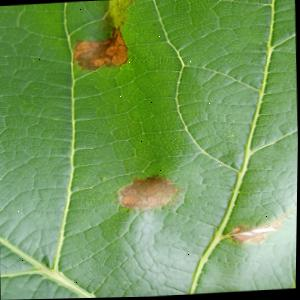Folha: (0, 0, 300, 300)
Fungo: (73, 26, 130, 72), (117, 175, 180, 212), (230, 221, 284, 246)
